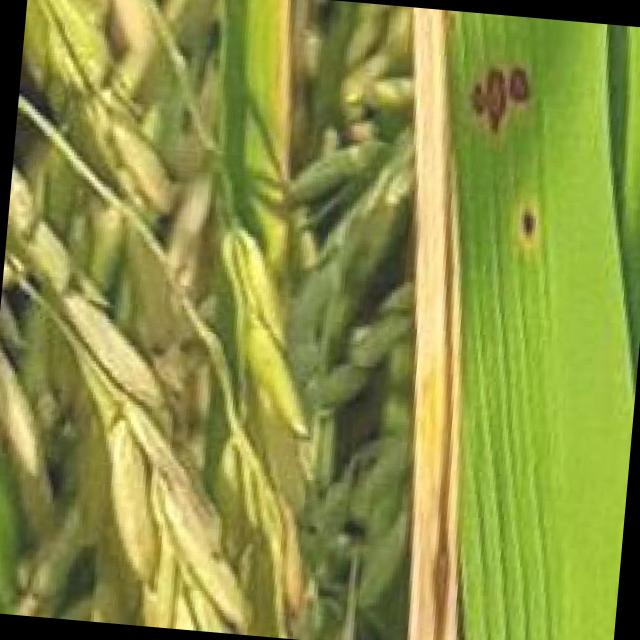Rice_Brownspot: (454, 34, 552, 133), (498, 184, 555, 251)
